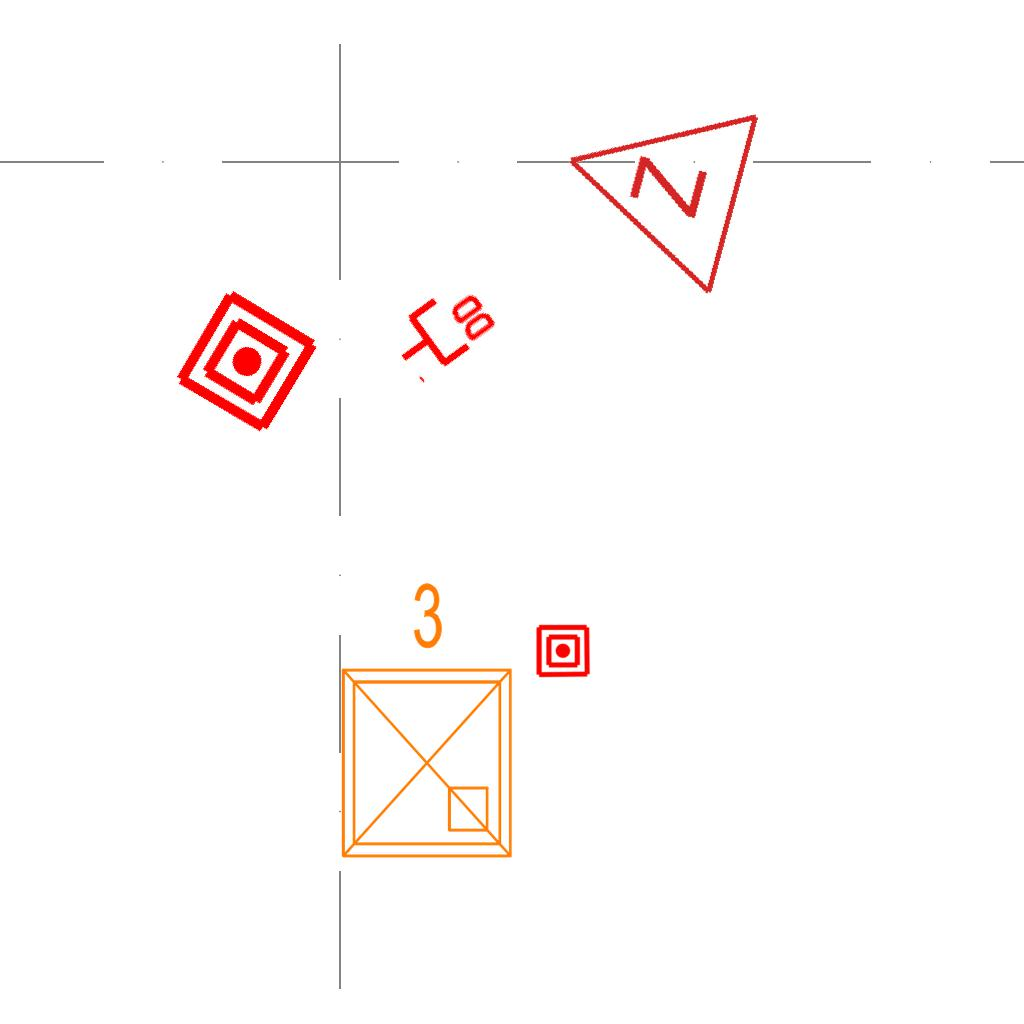Datenanschluss_zweifach: (379, 270, 504, 387)
Einbaudownlights_LED_Konferenzraeume: (319, 572, 527, 872)
NAM-Nichtautomatischer_Melder: (168, 283, 325, 440), (535, 623, 591, 679)
Zimmersignalleuchte: (530, 64, 774, 306)
